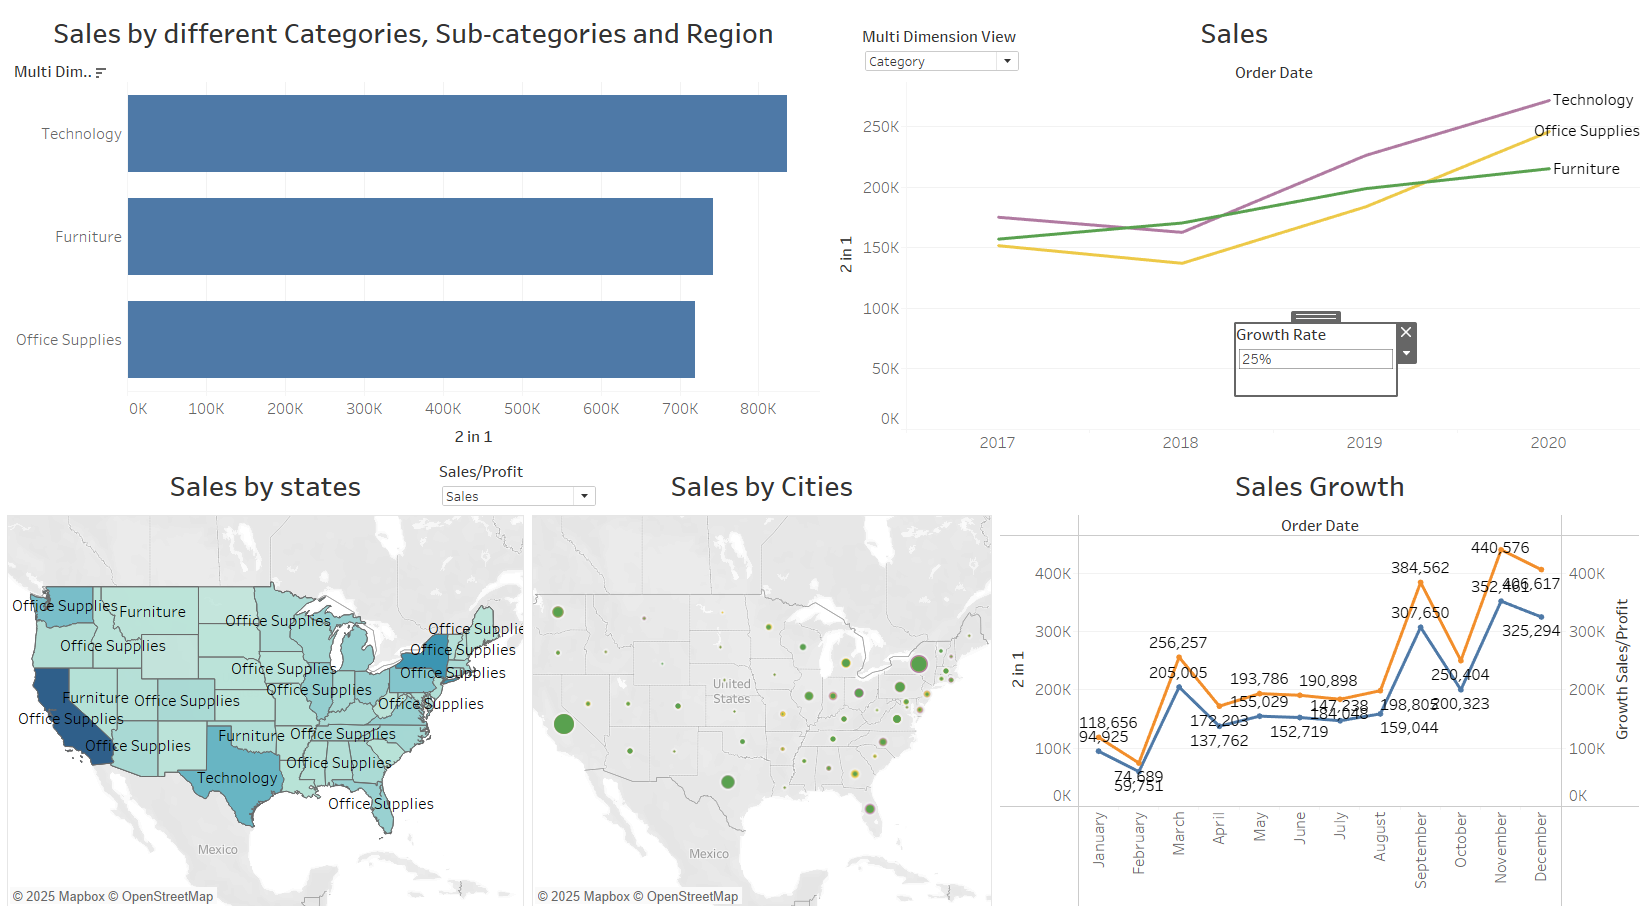

This screenshot's page, from the dashboard's own definition file:
{"tool":"tableau","page":{"name":"Superstore","canvas":[1000,1000],"units":"permille","ordinal":0},"visuals":[{"type":"worksheet","title":"Sales/Profit by Different aspects ","mark":"Automatic","rows":["Calculation_955889085962141696"],"cols":["Calculation_955889085963681793"],"box":[4.8,8.7,495.2,491.3]},{"type":"worksheet","title":"Sales/Profit Trend","mark":"Automatic","rows":["Calculation_955889085963681793"],"cols":["Order Date"],"box":[500,8.7,495.2,491.3]},{"type":"parameter","param":"[Parameters].[Parameter 1]","box":[523.2,30.4,96.6,52.1]},{"type":"parameter","param":"[Parameters].[Parameter 3]","box":[748.9,354,96.6,77.1]},{"type":"worksheet","title":"Sales/Profit by States","mark":"Automatic","box":[4.8,500,317,491.3]},{"type":"worksheet","title":"Sales/Profit by Cities","mark":"Automatic","box":[321.8,500,282.2,491.3]},{"type":"worksheet","title":"Sales/Profit Change","mark":"Automatic","rows":["Calculation_955889085963681793","Calculation_955889085981126658"],"cols":["Order Date"],"box":[604,500,391.2,491.3]},{"type":"parameter","param":"[Parameters].[Parameter 2]","box":[267.9,502.7,96.6,52.1]}]}

Visuals, with their boxes on the dashboard's canvas, which has no fixed pixel size, in thousandths of its width and height (x1, y1, x2, y2). These are canvas units, not pixel positions in the 1644x906 screenshot, which may show the page scaled, cropped or inside an application window:
"Sales/Profit by Different aspects " worksheet: rect(5, 9, 500, 500)
"Sales/Profit Trend" worksheet: rect(500, 9, 995, 500)
parameter: rect(523, 30, 620, 82)
parameter: rect(749, 354, 846, 431)
"Sales/Profit by States" worksheet: rect(5, 500, 322, 991)
"Sales/Profit by Cities" worksheet: rect(322, 500, 604, 991)
"Sales/Profit Change" worksheet: rect(604, 500, 995, 991)
parameter: rect(268, 503, 364, 555)
